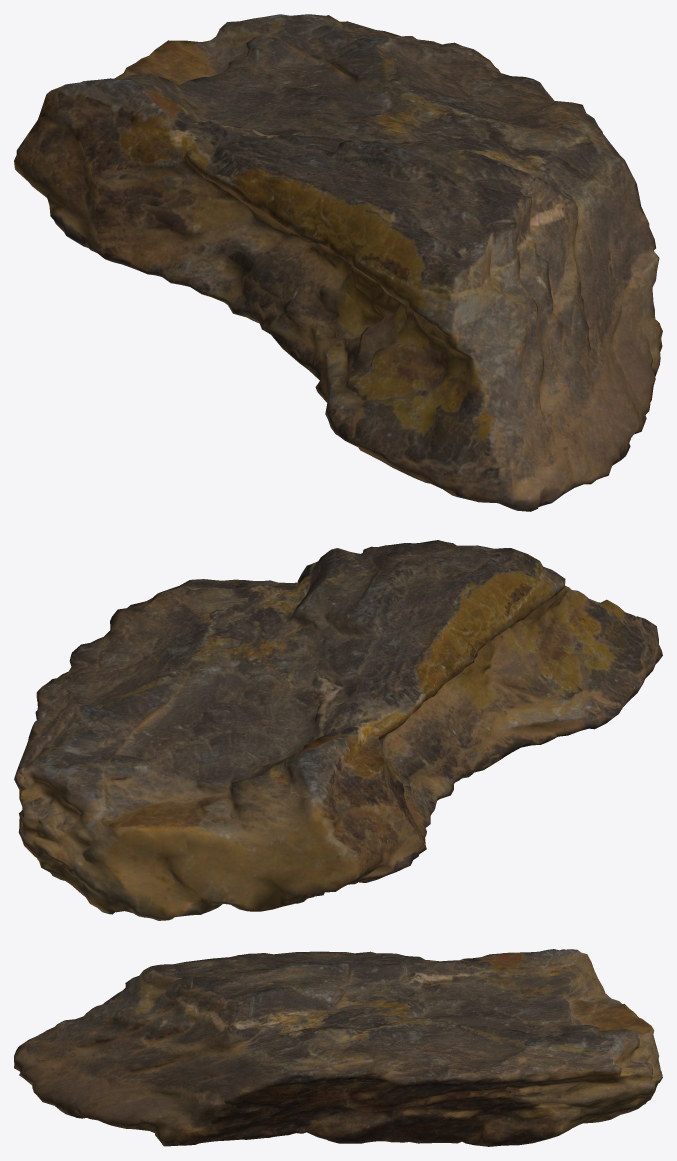
3 renders of one model, top to bottom at view 1: azimuth 30°, elevation 25°; view 2: azimuth 150°, elevation 25°; view 3: azimuth 270°, elevation 25°, orthographic. The views are drawn at different scales.
Parts seen in each view (by area): view 1: rock_09_LOD0; view 2: rock_09_LOD0; view 3: rock_09_LOD0.
Part boxes in pixels (x1,y1,x2,y2): rock_09_LOD0: (14,14,662,511); rock_09_LOD0: (14,540,662,920); rock_09_LOD0: (14,949,662,1146).
Size of the model in its own units: 0.074 by 0.0329 by 0.1446.
Materials: 1 (1 with a texture image).
